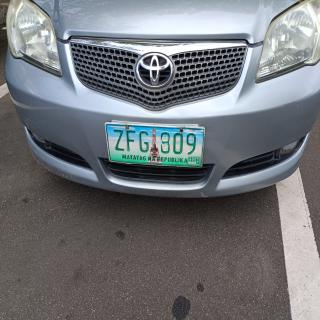license: (106, 123, 205, 168)
